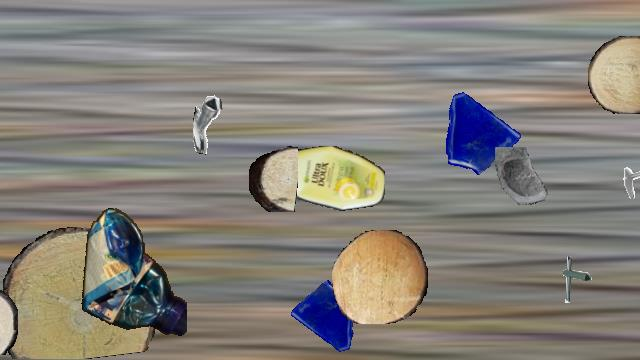glass: (433, 85, 523, 175), (289, 280, 367, 358), (489, 147, 557, 215)
metal: (193, 95, 255, 157), (548, 253, 600, 305), (612, 156, 640, 198)
plastic: (78, 206, 186, 342), (272, 146, 384, 212)
wood: (0, 227, 159, 359), (332, 230, 428, 324), (588, 36, 640, 114), (249, 145, 297, 211), (0, 287, 18, 355)
